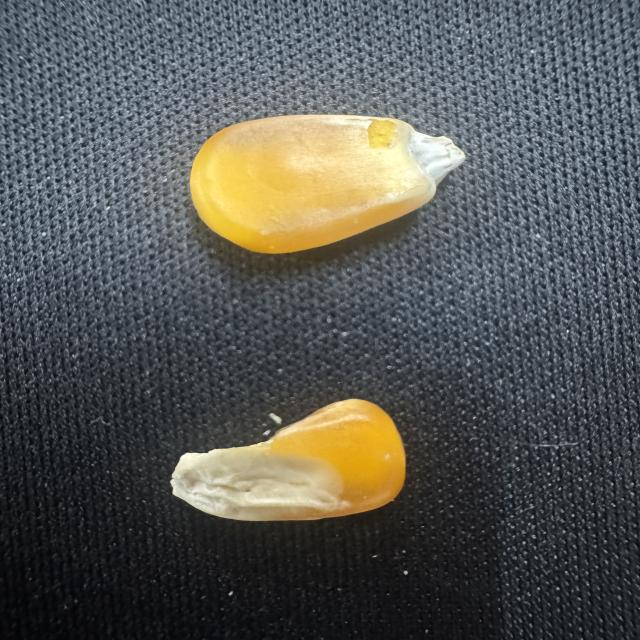Bad-Seed: (157, 392, 416, 525)
Good-Seed: (184, 99, 478, 271)
